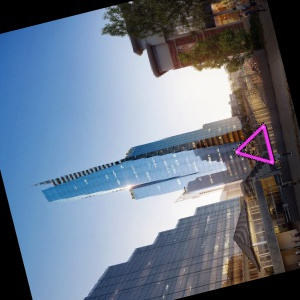triangle: (229, 120, 277, 166)
